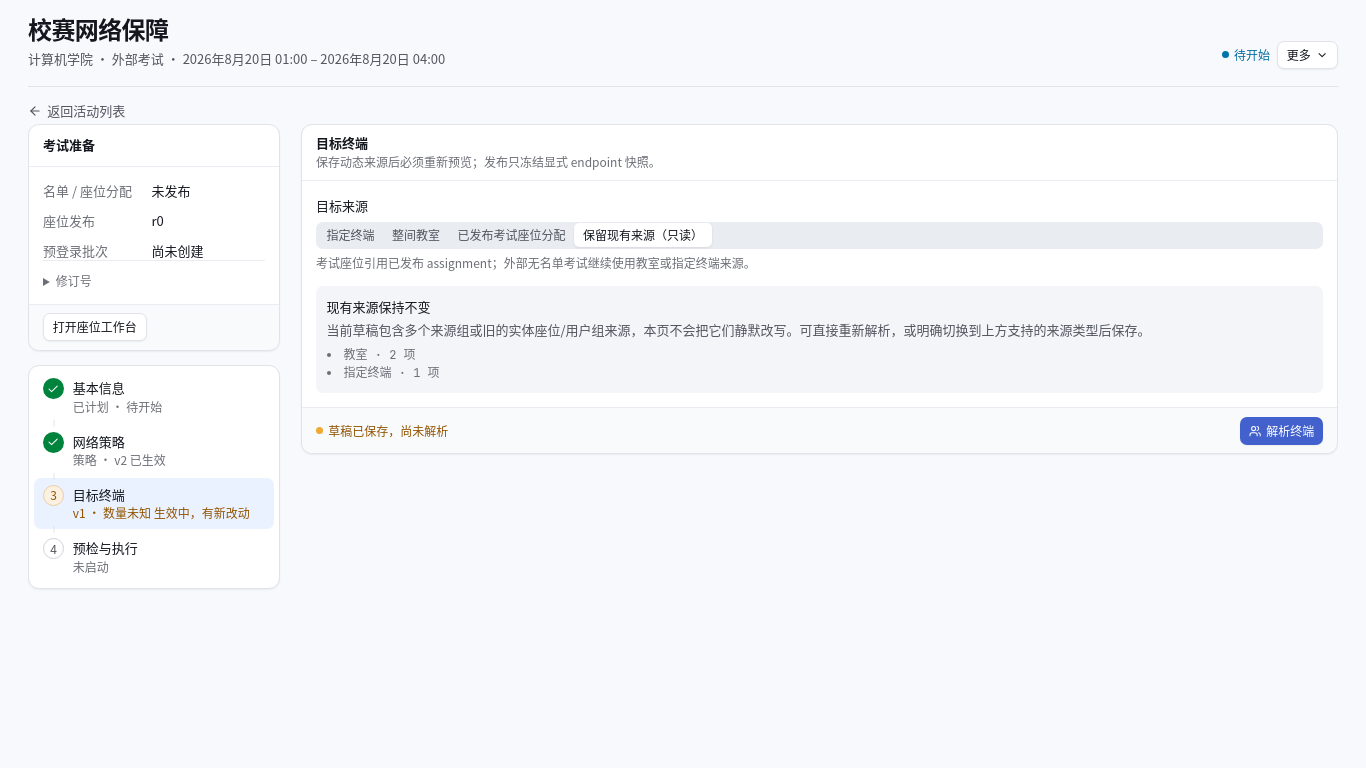
Scenario: exam infrastructure workspace › preserves an existing mixed target draft read-only and can preview it without destructive normalization
The width and height of the screenshot is (1366, 768).
Check: the element named "目标来源" shows "保留现有来源（只读）", box [574,223,712,247]
Check: the text "现有来源保持不变" is shown, box [326,297,430,316]
Click the button "解析终端".
click(1282, 431)  # box [1240,417,1323,445]
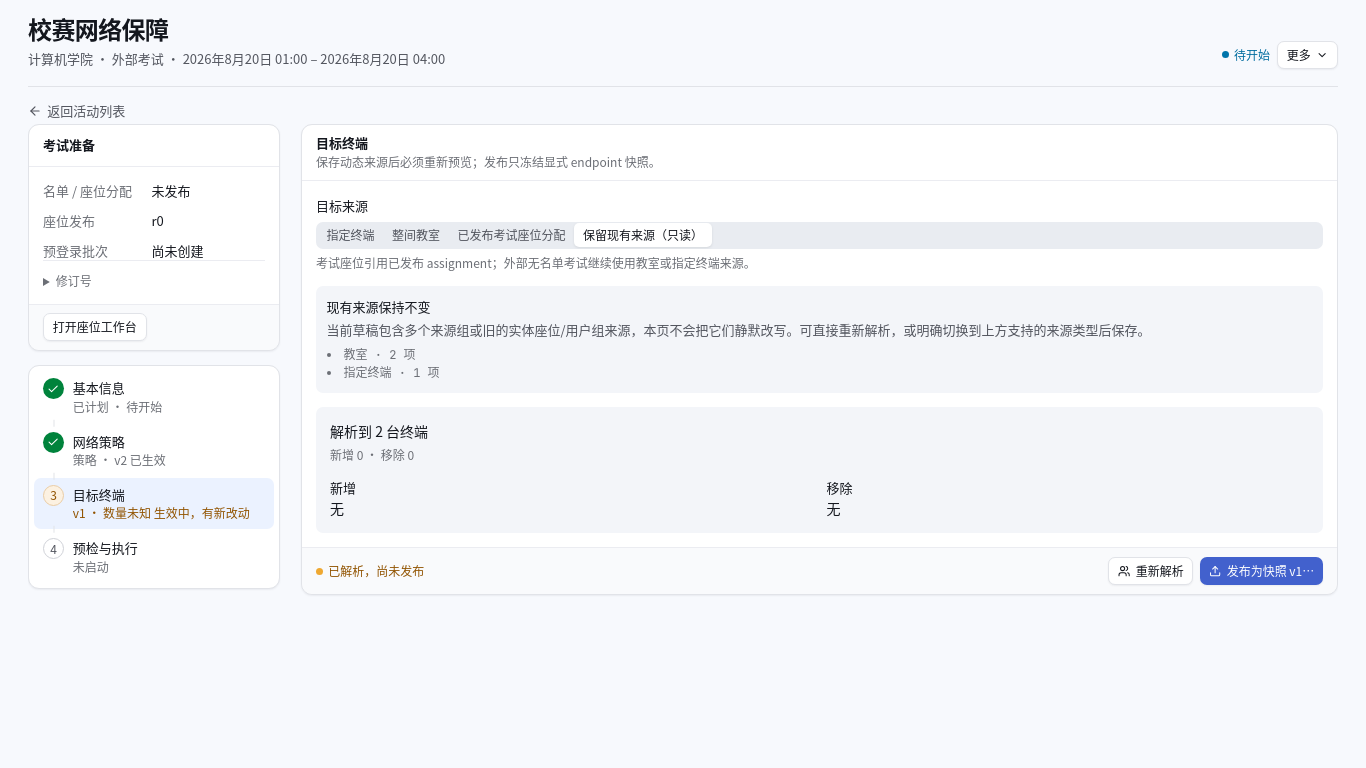
Check: the text "解析到 2 台终端" is shown, box [330,421,428,441]
